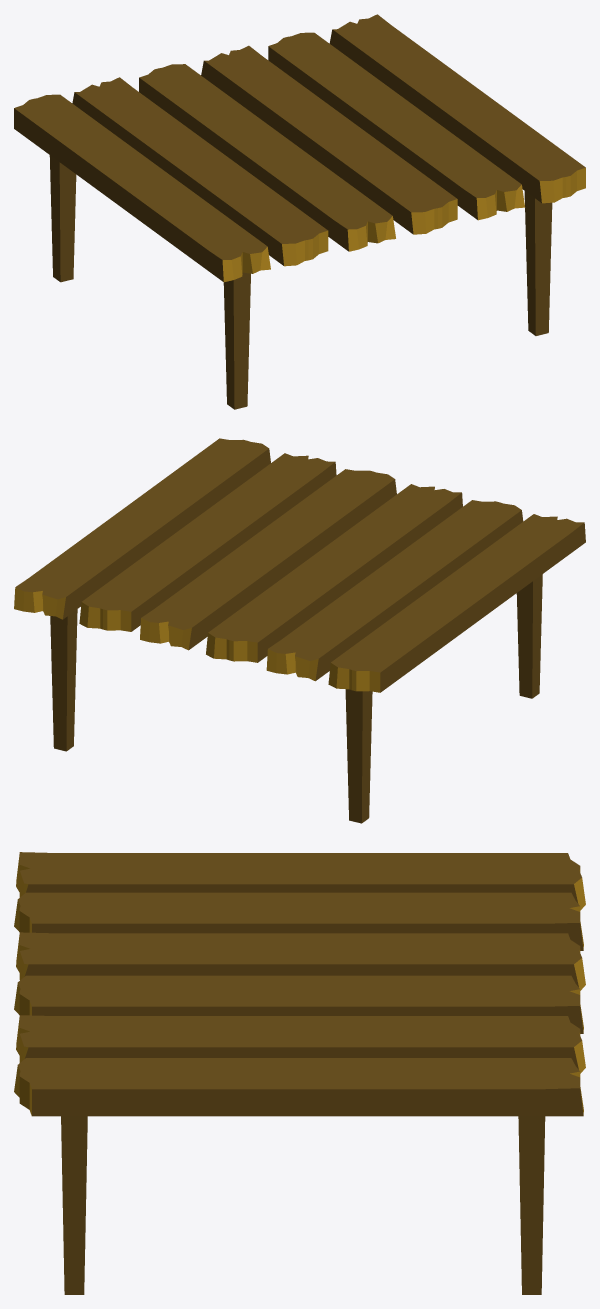
The model's file is Floor_wooden.fbx.
3 views of the same model, one above another, from view 1: azimuth 30°, elevation 25°; view 2: azimuth 150°, elevation 25°; view 3: azimuth 270°, elevation 25° (orthographic). The views are drawn at different scales.
Parts seen in each view (by area): view 1: Cube.1183; view 2: Cube.1183; view 3: Cube.1183.
Boxes of the visible parts, x1,y1,x2,y2 form: Cube.1183: (14, 14, 585, 409); Cube.1183: (14, 438, 585, 823); Cube.1183: (14, 852, 585, 1294).
Bounding box in the file's own units: 7329 × 3221 × 7502.
